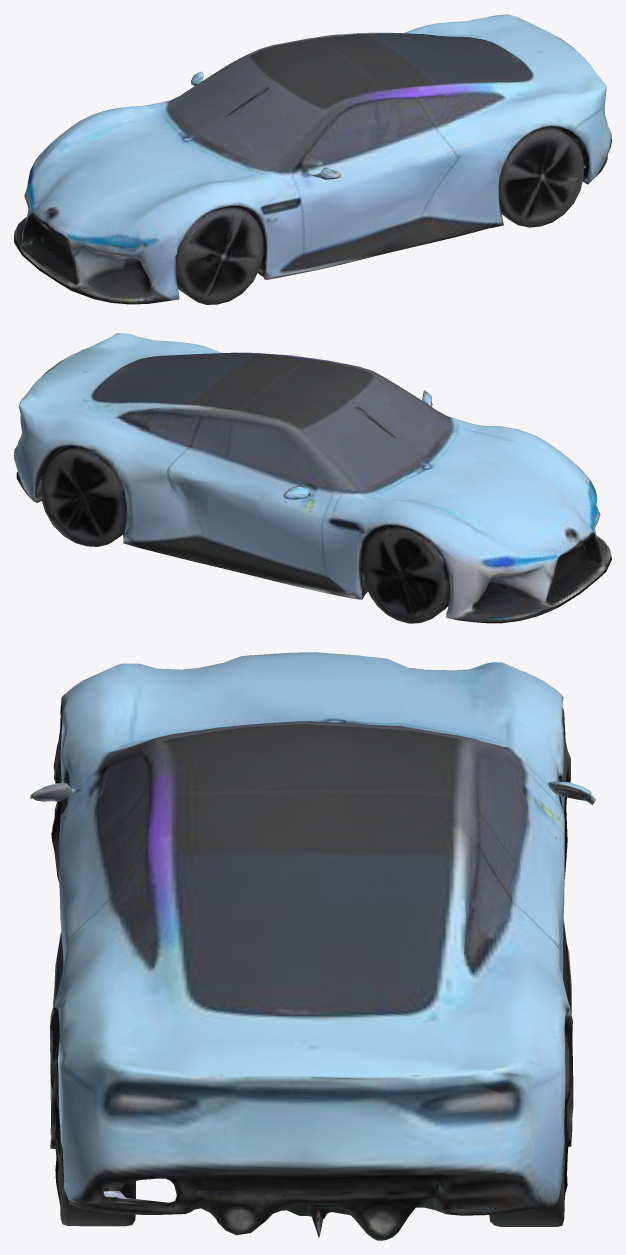
Rendered from dk-meshy-matra-laser-lite.glb.
3 views of the same model, one above another, from view 1: azimuth 30°, elevation 25°; view 2: azimuth 150°, elevation 25°; view 3: azimuth 270°, elevation 25° (orthographic). The views are drawn at different scales.
Size of the model in its own units: 1.98 by 0.5451 by 0.9118.
Materials: 1 (1 with a texture image).
